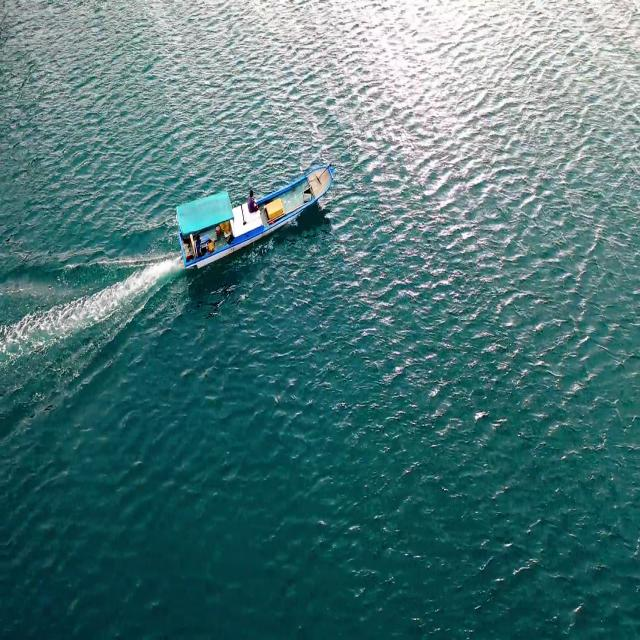ship: (182, 147, 334, 272)
